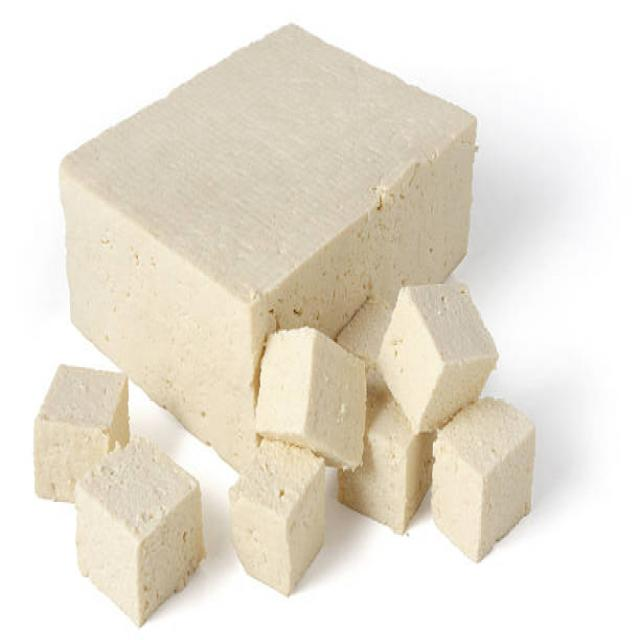tofu: (58, 21, 475, 274), (77, 436, 203, 628), (226, 440, 332, 601), (431, 402, 536, 564), (257, 326, 371, 469), (376, 278, 501, 402), (31, 358, 131, 455)
